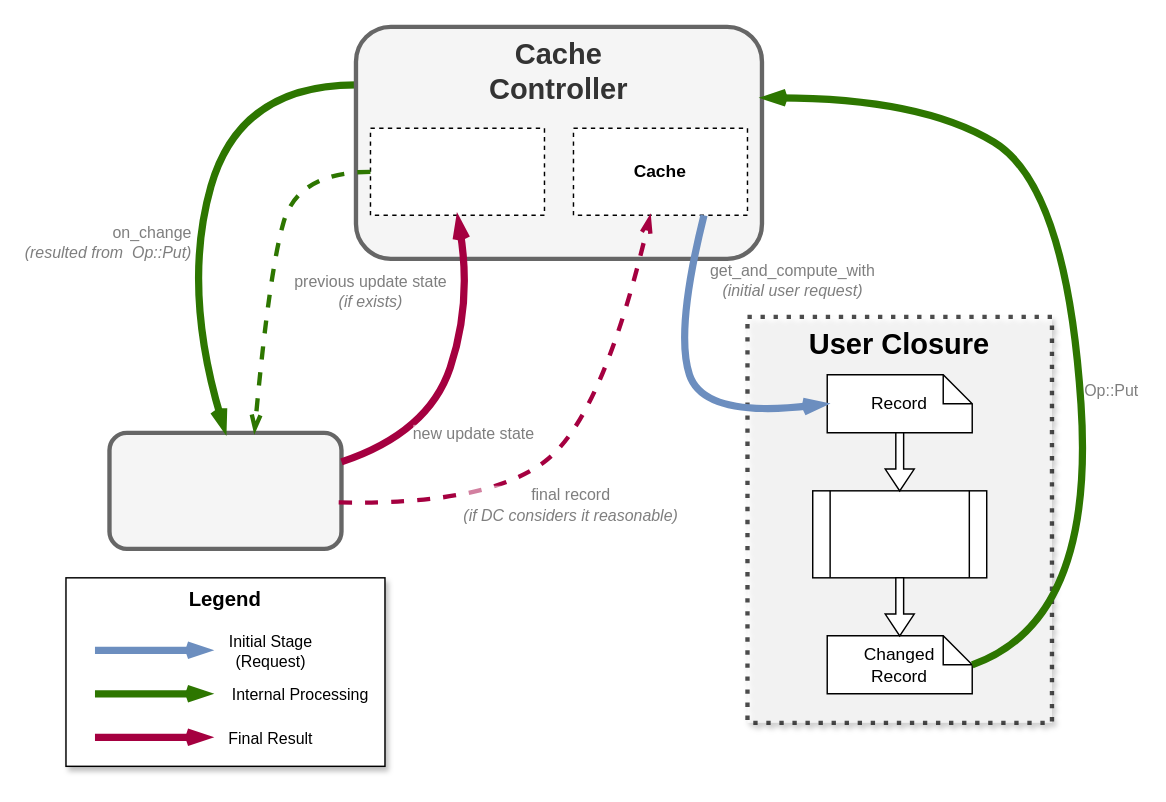
Image size: 1166x802. Some labels were removed from this diagram. Each missing label, with the centre of its shape:
Data Controller: the point at 225,490
Updates Pool: the point at 456,171
User edit: the point at 899,533
